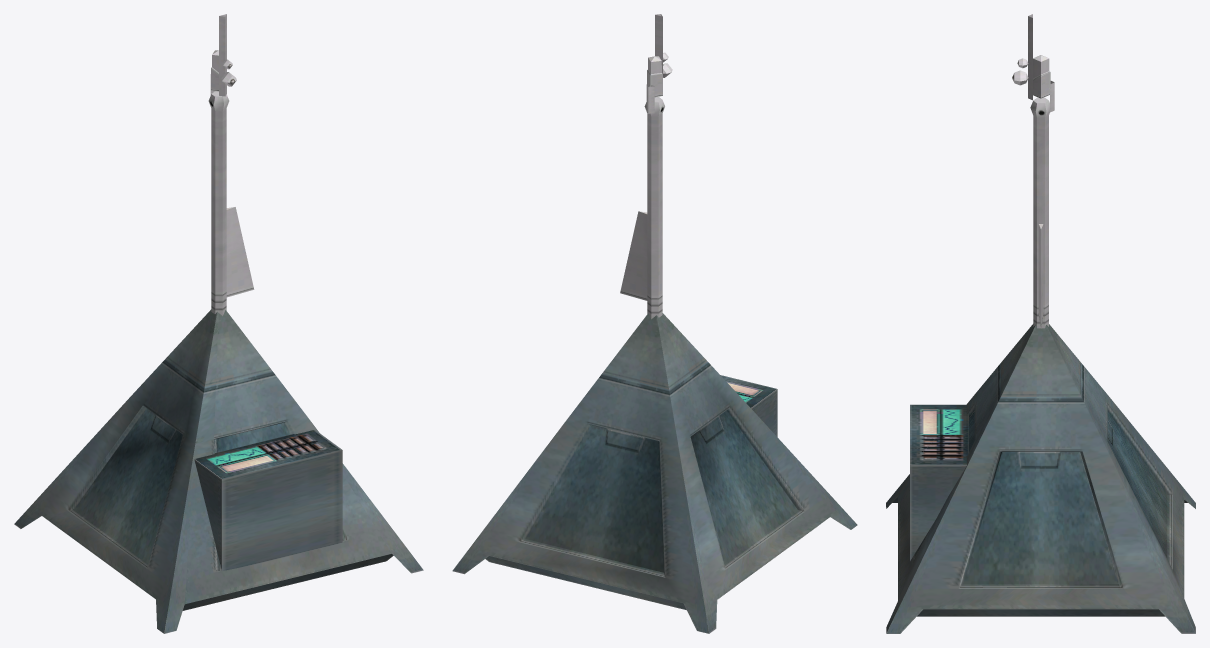
The model's file is eqp_tool_sensor_frequency_jammer_s2_l0.fbx.
The picture shows the model from 3 angles, left to right: view 1: azimuth 30°, elevation 25°; view 2: azimuth 150°, elevation 25°; view 3: azimuth 270°, elevation 25°; orthographic projection. The views are drawn at different scales.
Parts seen in each view (by area): view 1: mesh_node; view 2: mesh_node; view 3: mesh_node.
Boxes of the visible parts, x1,y1,x2,y2 form: mesh_node: (14, 14, 423, 633); mesh_node: (452, 14, 857, 633); mesh_node: (886, 14, 1195, 633).
Bounding box in the file's own units: 0.4059 × 0.7988 × 0.4062.
